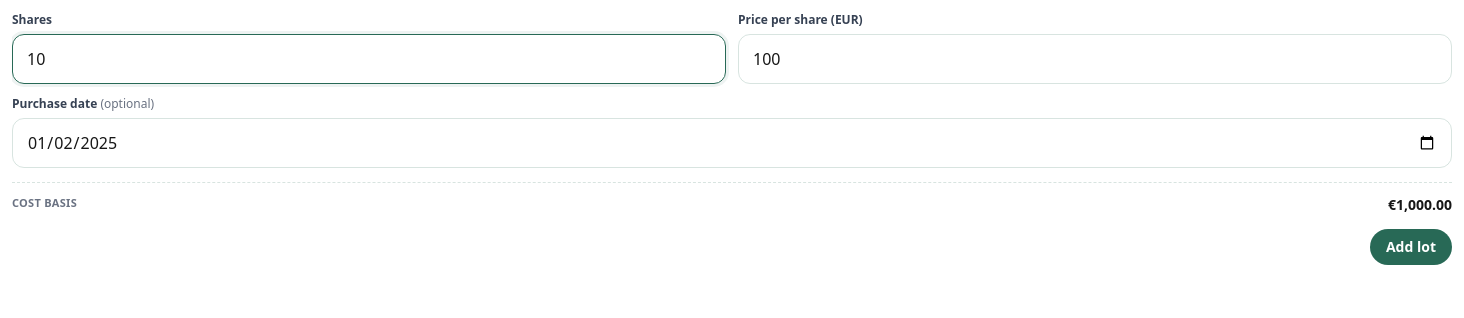
Scenario: LotForm › shows a failed submit and keeps the values
Click the button "Add lot" at (1411, 247), box [1370,229,1452,265]
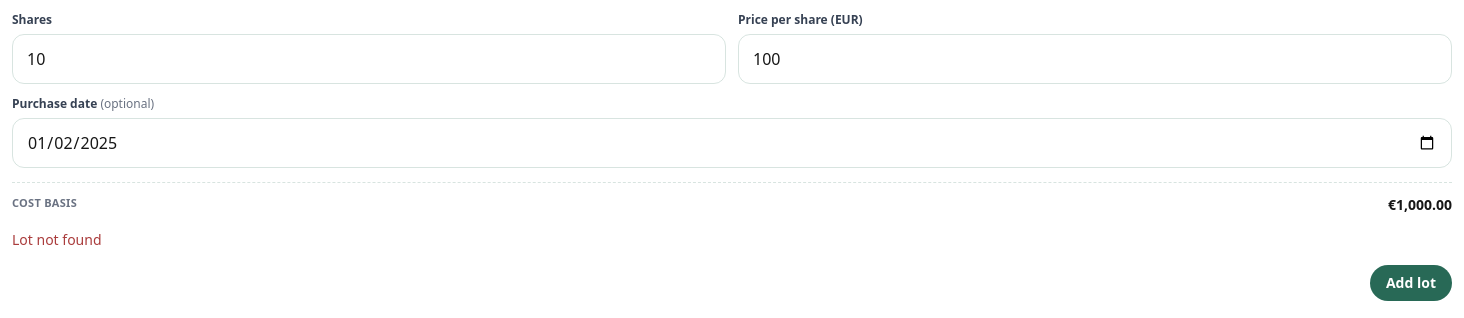
Check: the field labelled "Shares" holds "10", box [12,34,726,84]
Check: the message reads "Lot not found", box [12,230,102,249]
